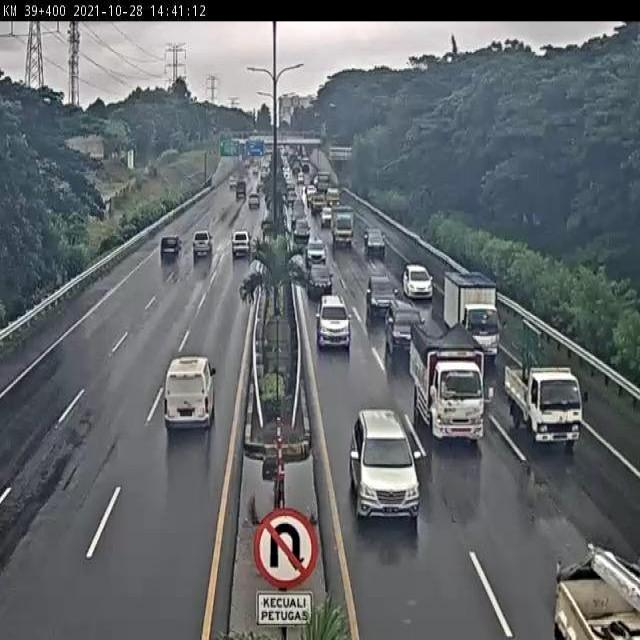car: (350, 409, 420, 523), (162, 356, 216, 432), (385, 299, 425, 357), (316, 292, 353, 351), (364, 272, 399, 319), (402, 264, 434, 300), (308, 262, 333, 294)
mid truck: (158, 235, 183, 265), (191, 231, 215, 260), (231, 231, 253, 257)
truck-m-: (409, 319, 486, 441)
truck-s-: (503, 354, 584, 446), (444, 273, 501, 363)
